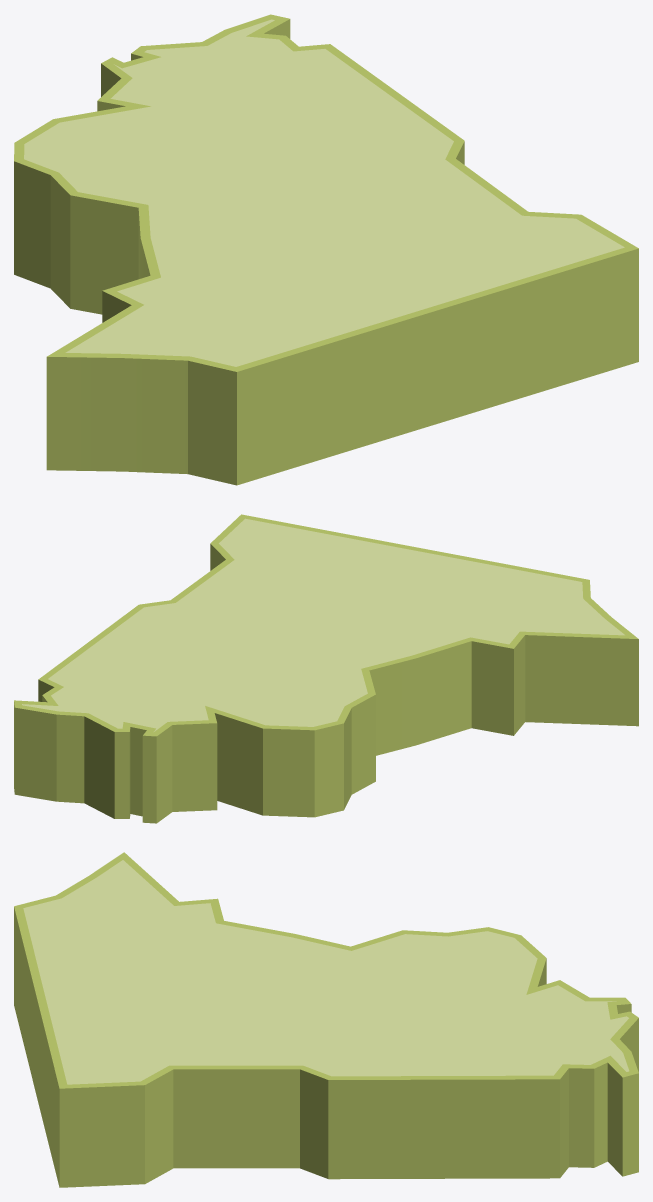
File: Islands1.003.fbx
3 renders of one model, top to bottom at view 1: azimuth 30°, elevation 25°; view 2: azimuth 150°, elevation 25°; view 3: azimuth 270°, elevation 25°, orthographic. The views are drawn at different scales.
Parts seen in each view (by area): view 1: Island1.003; view 2: Island1.003; view 3: Island1.003.
Boxes of the visible parts, x1,y1,x2,y2 form: Island1.003: [14, 14, 638, 485]; Island1.003: [14, 514, 638, 823]; Island1.003: [14, 852, 638, 1187].
Bounding box in the file's own units: 128 × 25 × 143.
